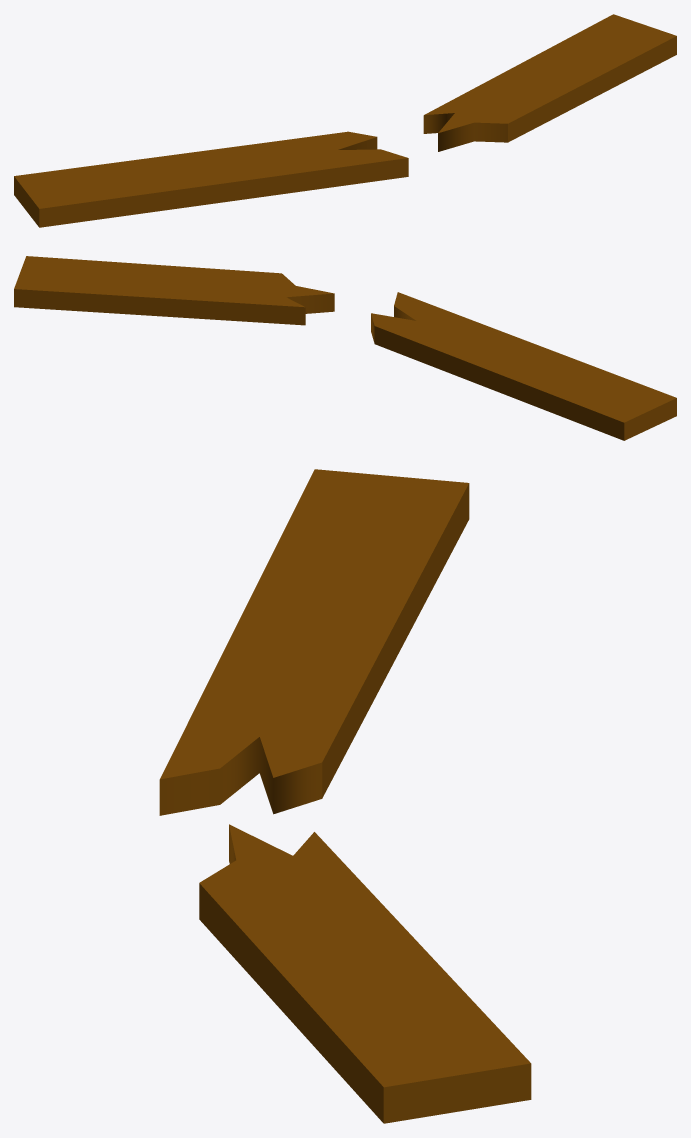
File: BrokenPlank.fbx
3 renders of one model, top to bottom at view 1: azimuth 30°, elevation 25°; view 2: azimuth 150°, elevation 25°; view 3: azimuth 270°, elevation 25°, orthographic. The views are drawn at different scales.
Parts seen in each view (by area): view 1: pCube3; view 2: pCube3; view 3: pCube3.
Boxes of the visible parts, x1,y1,x2,y2 form: pCube3: (14,14,676,227); pCube3: (14,256,676,440); pCube3: (159,469,531,1123).
Size of the model in its own units: 9.26 by 0.2543 by 2.35.
